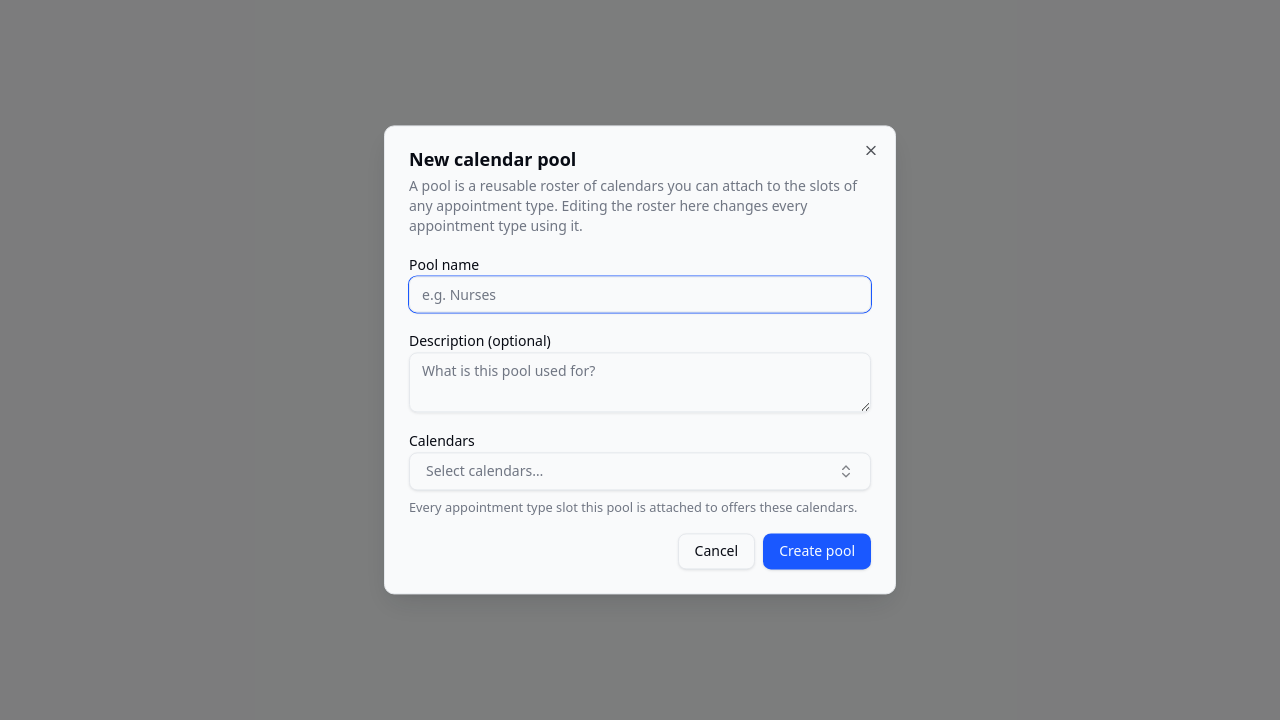
PoolDialog › blocks a pool with no calendars before any request
Type "Empty" into the field with placeholder "e.g. Nurses" at {"x": 640, "y": 294}, box [409, 276, 871, 312]
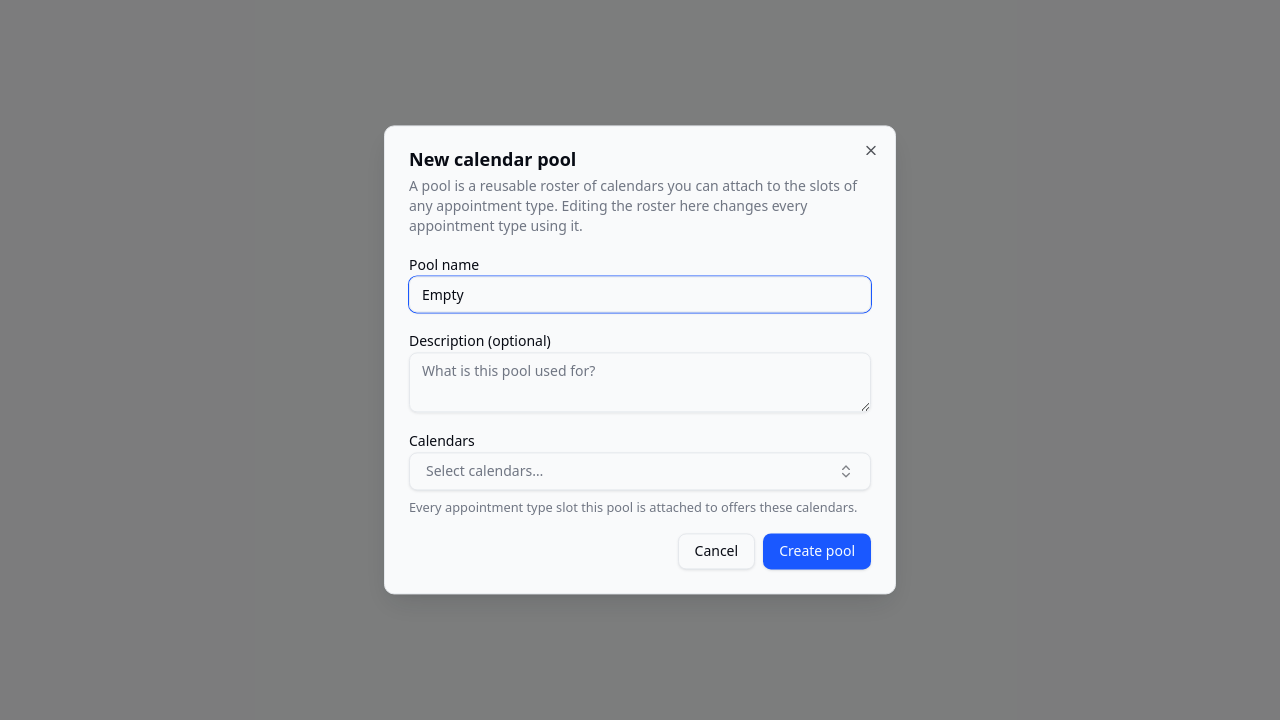
Click the button with test id "pool-submit" at {"x": 817, "y": 552}, box [763, 534, 871, 570]
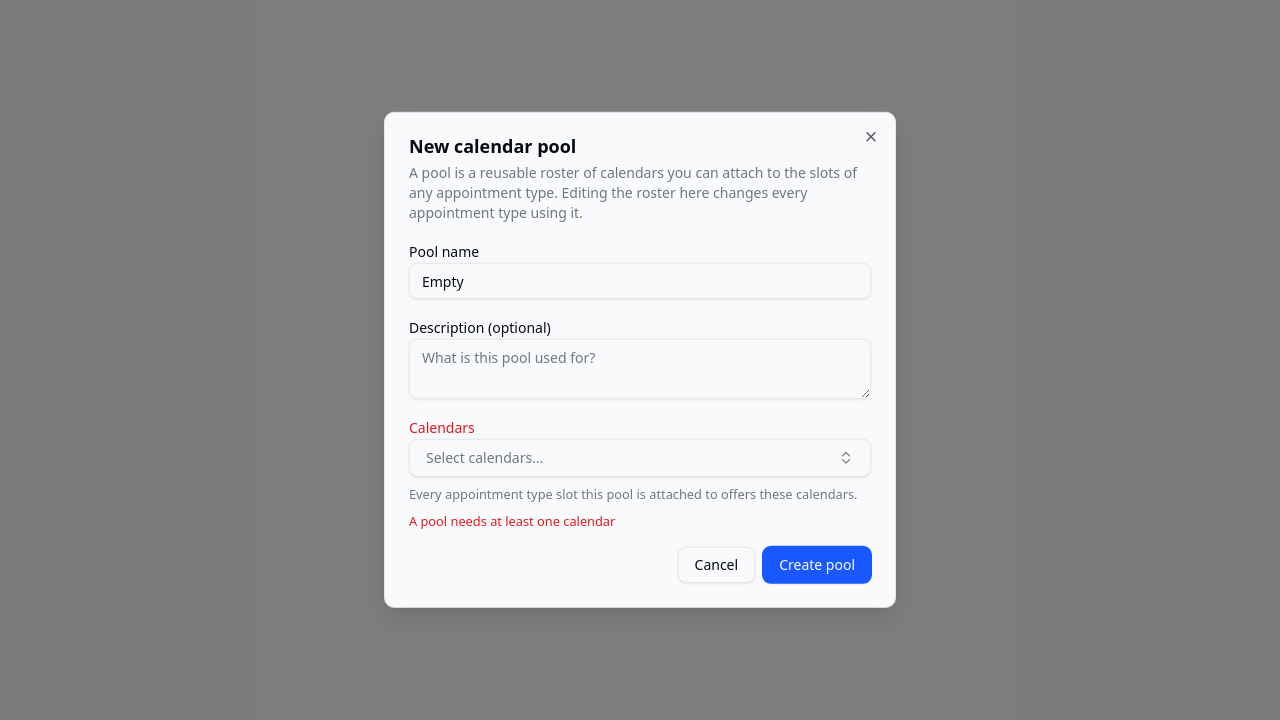
Result: the text "A pool needs at least one calendar" is shown at [409, 512, 615, 530]
